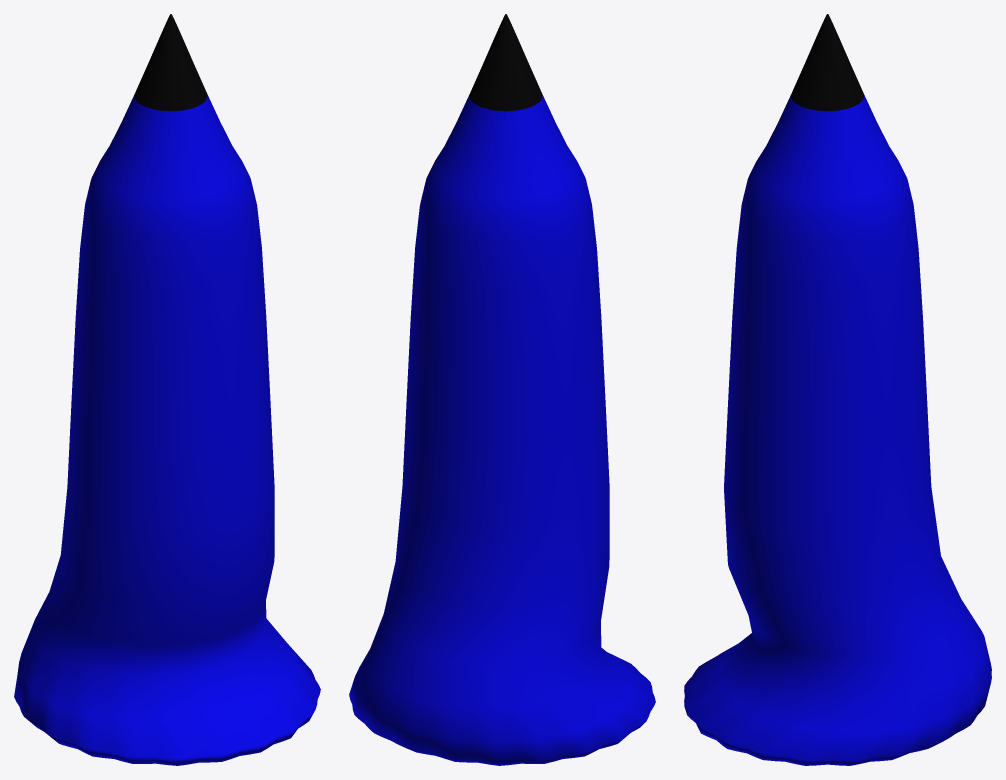
File: mavi.fbx
The picture shows the model from 3 angles, left to right: view 1: azimuth 30°, elevation 25°; view 2: azimuth 150°, elevation 25°; view 3: azimuth 270°, elevation 25°; orthographic projection.
Visible parts, largest first — view 1: pCylinder1; view 2: pCylinder1; view 3: pCylinder1.
Boxes of the visible parts, box(x1,y1,x2,y2) form: pCylinder1: box(14, 14, 320, 765); pCylinder1: box(349, 14, 655, 765); pCylinder1: box(684, 14, 991, 765).
Size of the model in its own units: 4.51 by 11.37 by 4.56.
